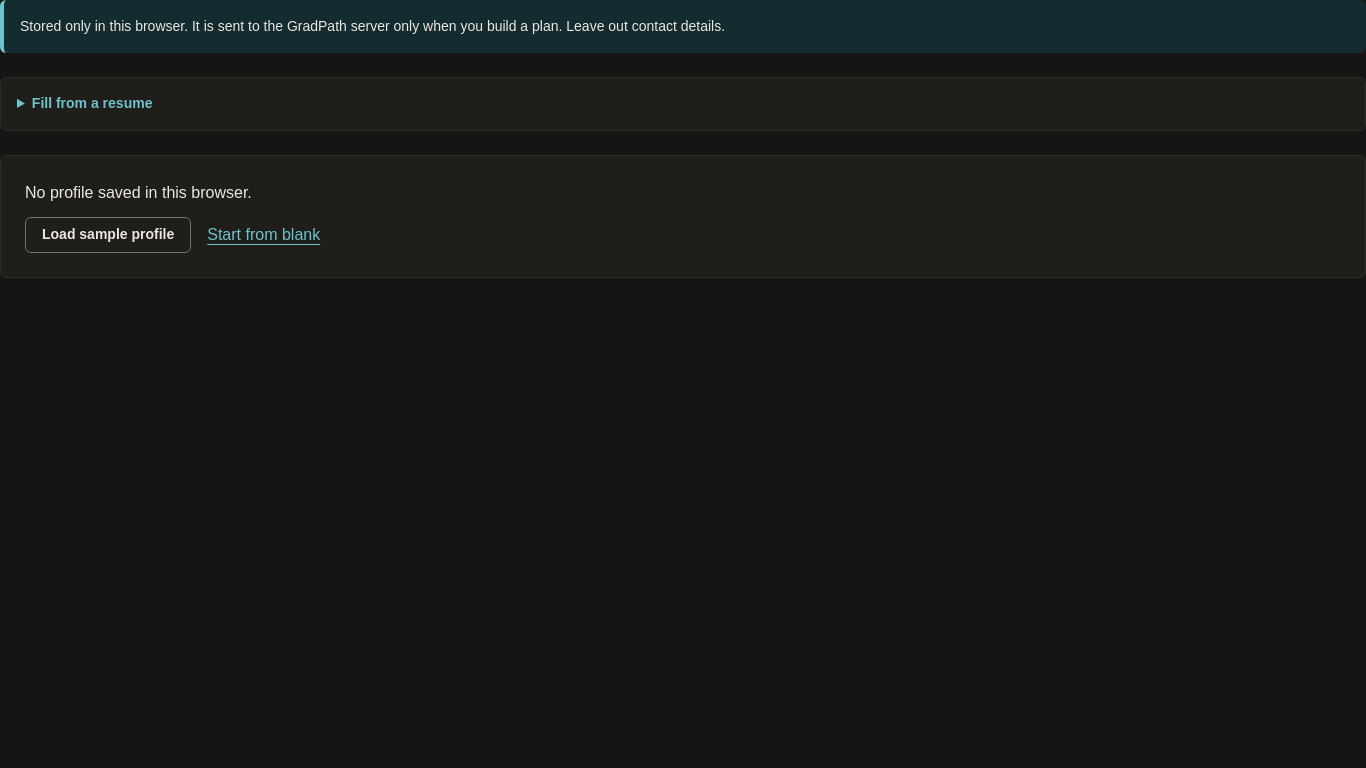
Test: saving › invalid input shows the summary and saves nothing
This screenshot has width=1366, height=768.
Check: the text "Stored only in this browser" is shown, box [20, 18, 725, 34]
Click the button "Start from blank": point(264, 235) [207, 222, 320, 248]
(page scrolled)
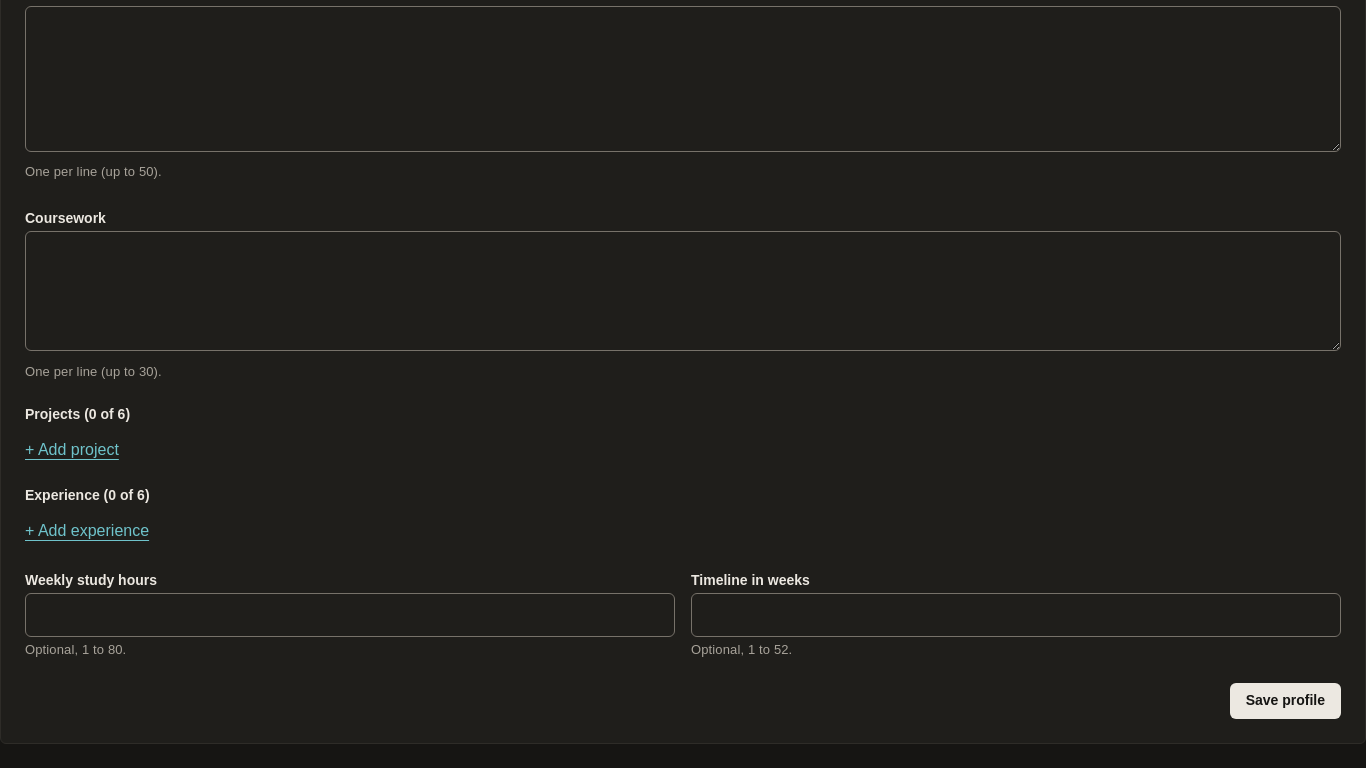
Click the button "+ Add project": point(72, 450) [25, 437, 119, 462]
(page scrolled)
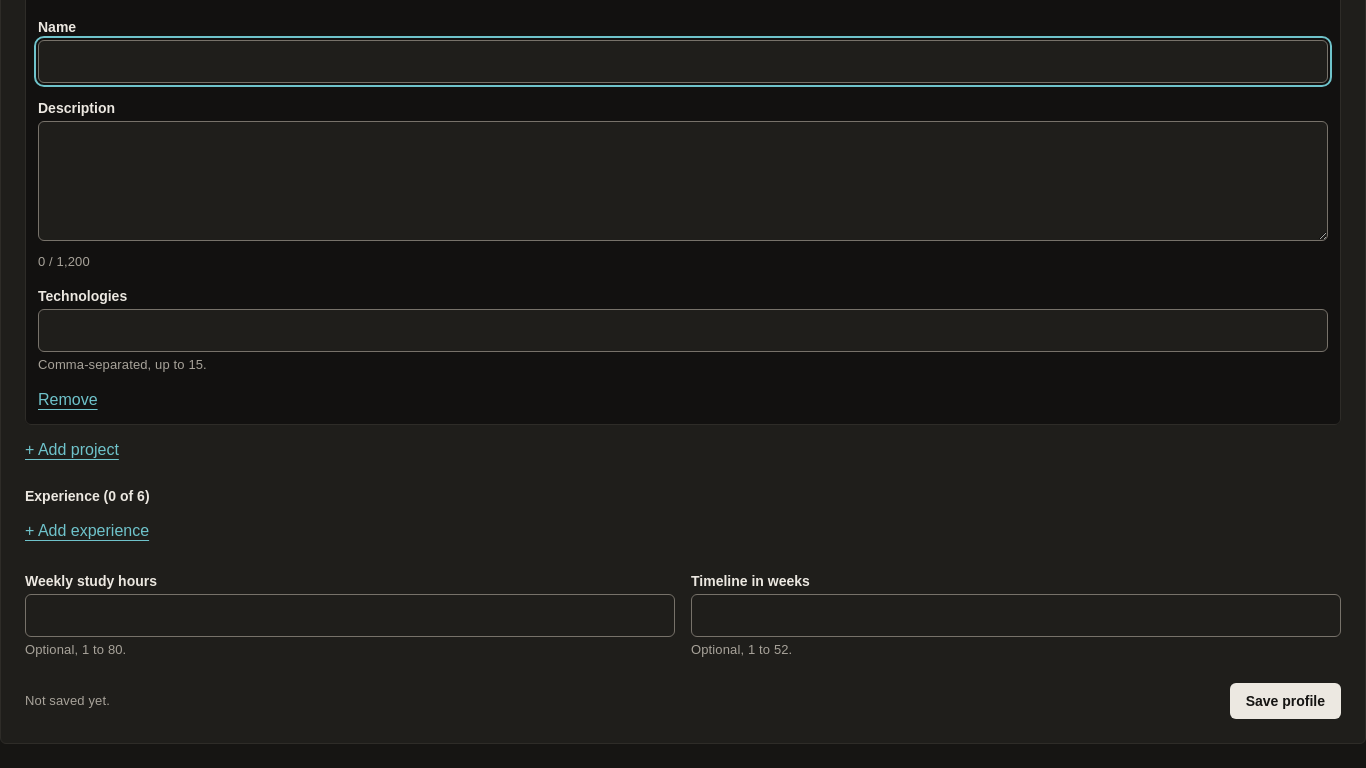
In the number field labelled "Weekly study hours": point(350, 615) [25, 594, 675, 637], type "81"
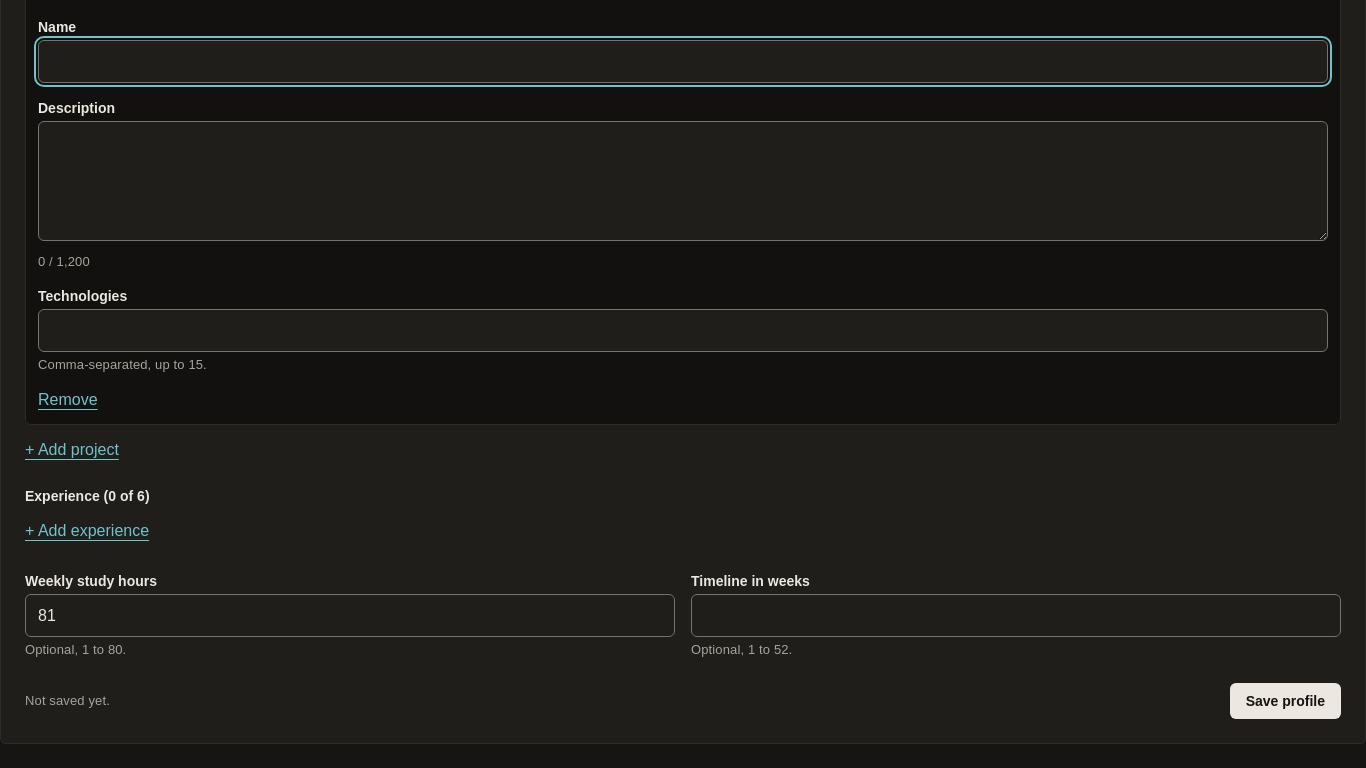
Click the button "Save profile": point(1285, 701) [1230, 683, 1341, 719]
(page scrolled)
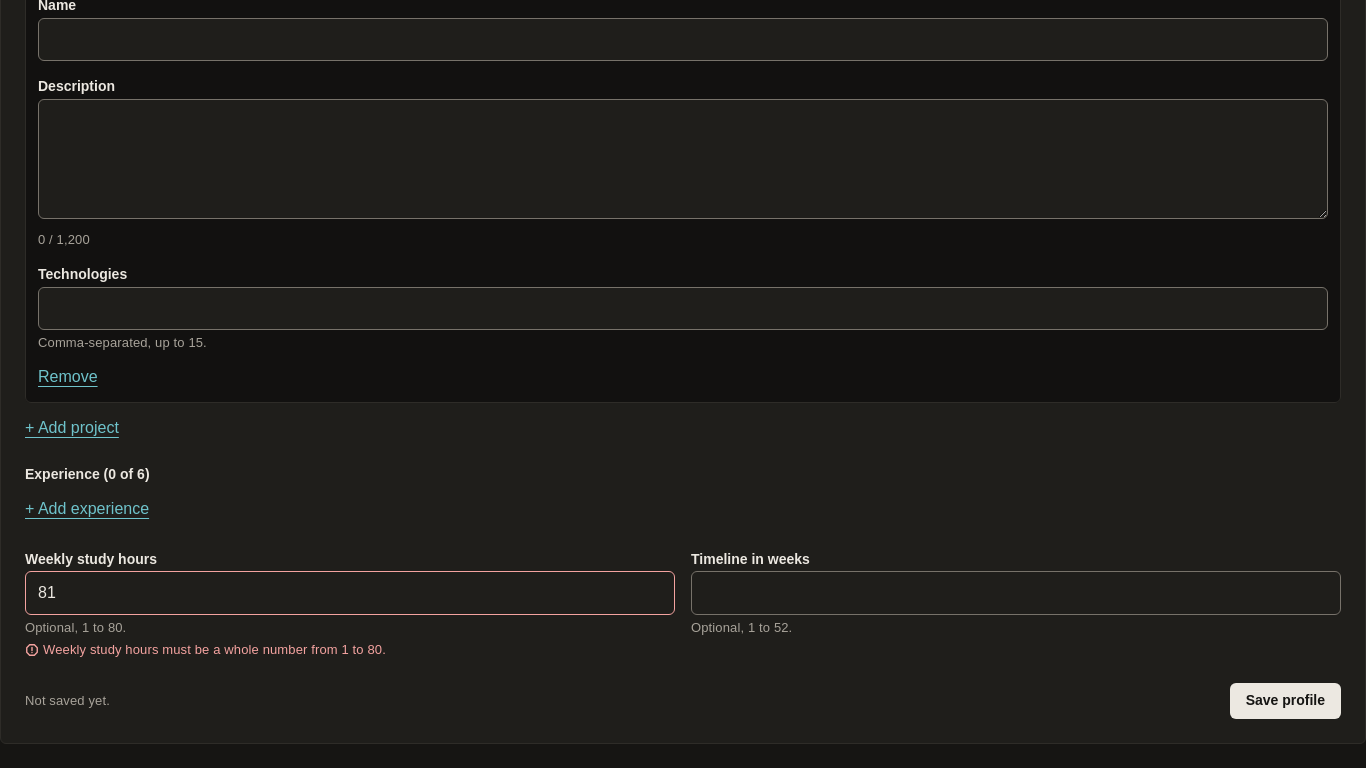
Check: the number field labelled "Weekly study hours" is marked as invalid, box [25, 571, 675, 615]
